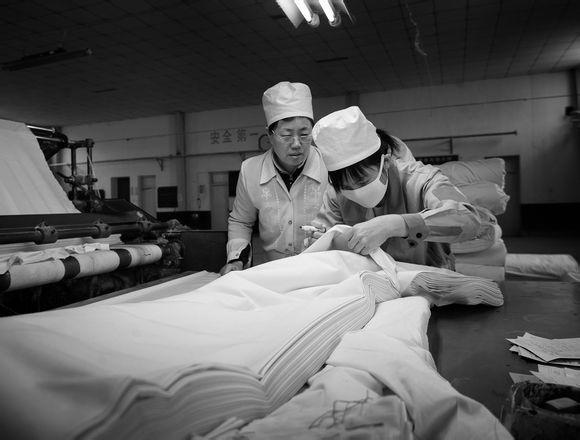NONE: (275, 126, 315, 166)
OK: (340, 164, 389, 213)
